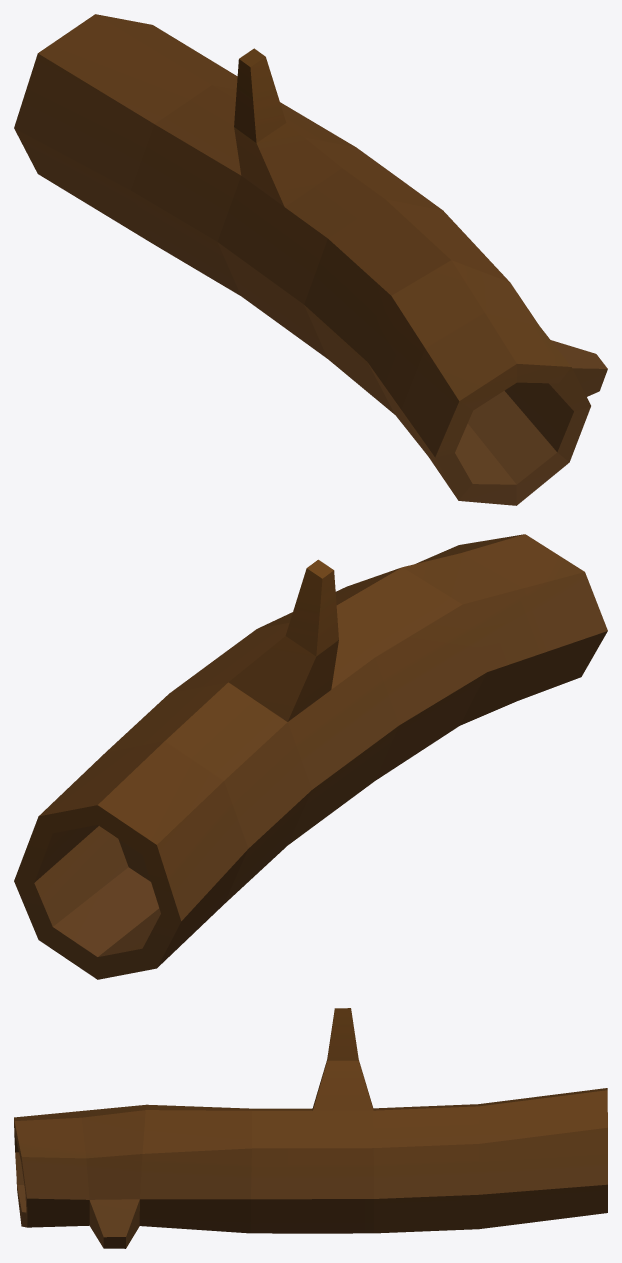
The model's file is Log_02.fbx.
3 renders of one model, top to bottom at view 1: azimuth 30°, elevation 25°; view 2: azimuth 150°, elevation 25°; view 3: azimuth 270°, elevation 25°, orthographic. The views are drawn at different scales.
Visible parts, largest first — view 1: Log_02; view 2: Log_02; view 3: Log_02.
Part boxes in pixels (x1=…): Log_02: x1=14, y1=14, x2=607, y2=505; Log_02: x1=14, y1=534, x2=607, y2=979; Log_02: x1=14, y1=1008, x2=607, y2=1248.
Size of the model in its own units: 54.55 by 63.34 by 164.
